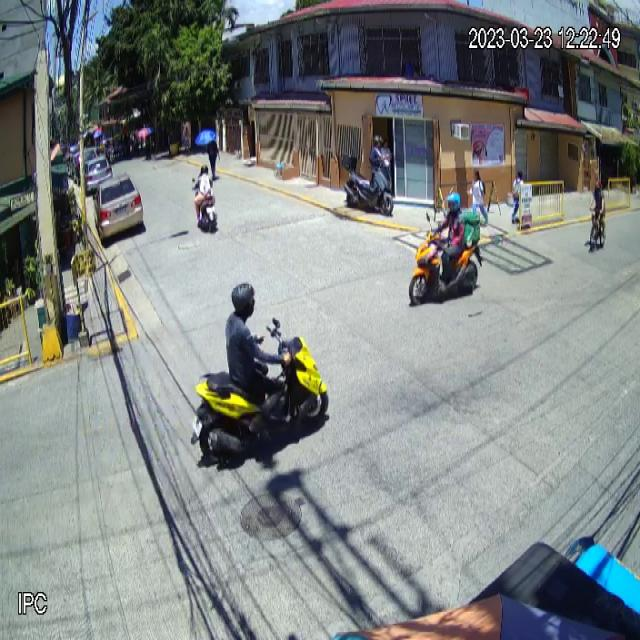Car: (93, 173, 144, 242)
Motorcycle: (190, 316, 330, 466), (407, 208, 483, 306)
